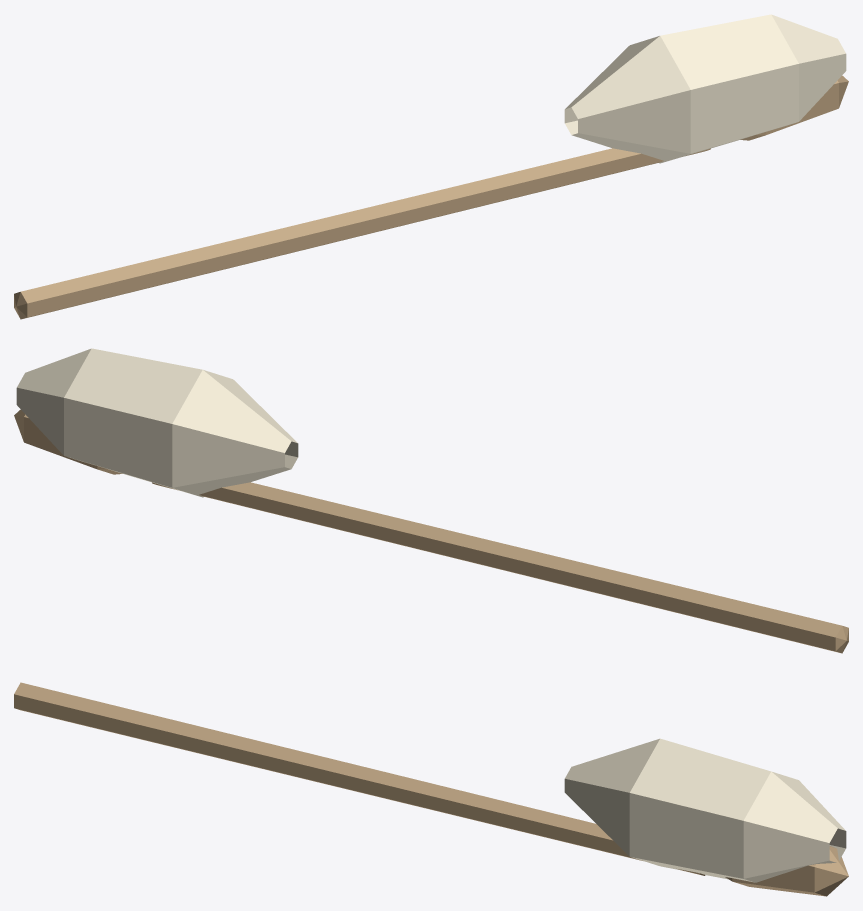
The model's file is prop-distaff.fbx.
3 views of the same model, one above another, from view 1: azimuth 30°, elevation 25°; view 2: azimuth 150°, elevation 25°; view 3: azimuth 330°, elevation 25° (orthographic).
Visible parts, largest first — view 1: prop-distaff; view 2: prop-distaff; view 3: prop-distaff.
Part boxes in pixels (box(x1,y1,x2,y2)): prop-distaff: box(14, 14, 848, 319); prop-distaff: box(14, 348, 848, 653); prop-distaff: box(14, 682, 848, 896).
Size of the model in its own units: 75 by 11 by 9.53.
